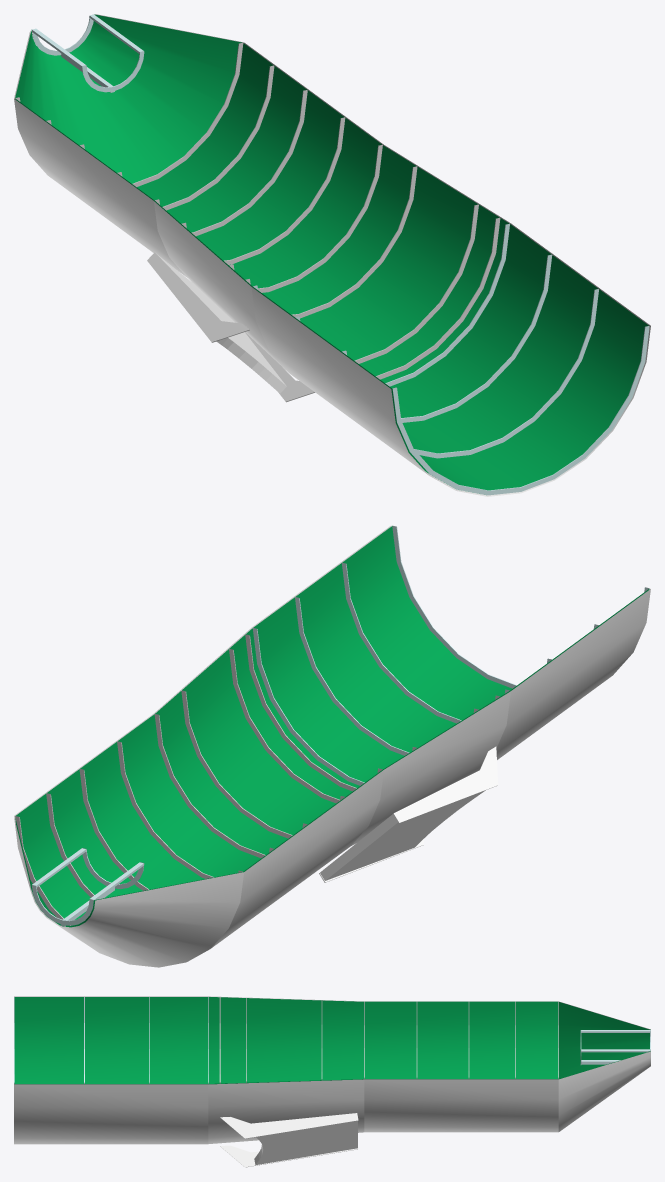
Rendered from soyshrd2.obj.
3 views of the same model, one above another, from view 1: azimuth 30°, elevation 25°; view 2: azimuth 150°, elevation 25°; view 3: azimuth 270°, elevation 25° (orthographic). The views are drawn at different scales.
Parts seen in each view (by area): view 1: group20, group17, group18, group9, group8, group10, group0, group16, group1, group2, group3, group7 (+3 smaller); view 2: group20, group17, group18, group9, group8, group10, group16, group0, group1, group2, group3, group7 (+1 smaller); view 3: group20, group17, group19, group13.
Part boxes in pixels (x1,y1,x2,y2): group20: [15, 14, 648, 490]; group17: [14, 14, 650, 496]; group18: [147, 252, 314, 402]; group9: [392, 326, 649, 495]; group8: [342, 289, 598, 458]; group10: [295, 254, 552, 422]; group0: [245, 217, 500, 379]; group16: [253, 223, 509, 386]; group1: [229, 204, 478, 363]; group2: [181, 166, 417, 318]; group3: [155, 144, 382, 292]; group7: [117, 117, 345, 264]; group20: [15, 526, 649, 927]; group17: [14, 525, 650, 967]; group18: [319, 746, 498, 882]; group9: [392, 526, 649, 688]; group8: [341, 562, 598, 723]; group10: [295, 597, 551, 755]; group16: [252, 628, 509, 785]; group0: [245, 634, 499, 791]; group1: [229, 649, 478, 803]; group2: [181, 690, 416, 838]; group3: [154, 714, 382, 858]; group7: [117, 741, 344, 878]; group20: [14, 997, 650, 1084]; group17: [14, 996, 650, 1144]; group19: [220, 1113, 358, 1167]; group13: [581, 1049, 650, 1052].
Size of the model in its own units: 3.31 by 1.65 by 9.17.
